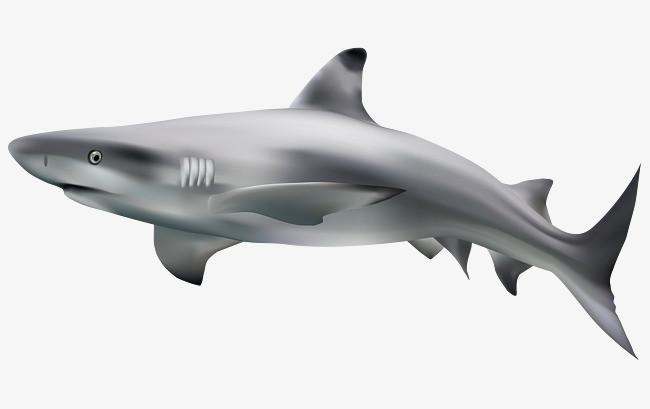fish: (6, 47, 637, 358)
